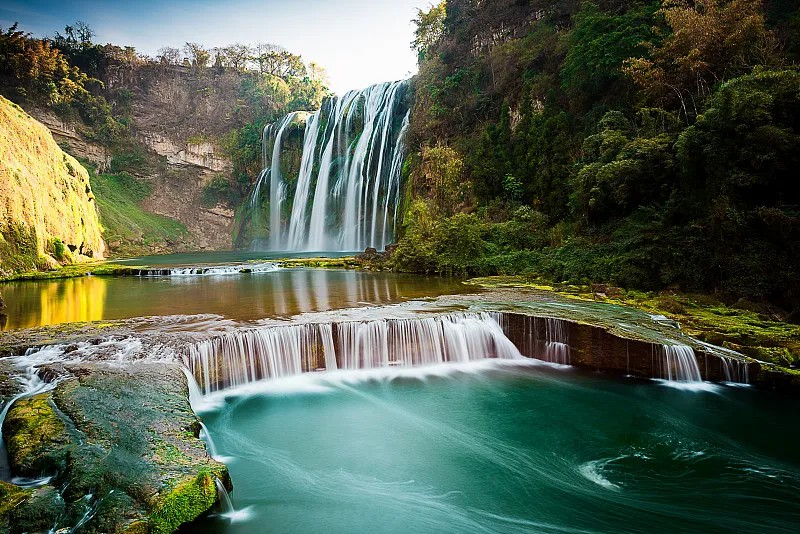Huangguoshu: (248, 80, 408, 252)
